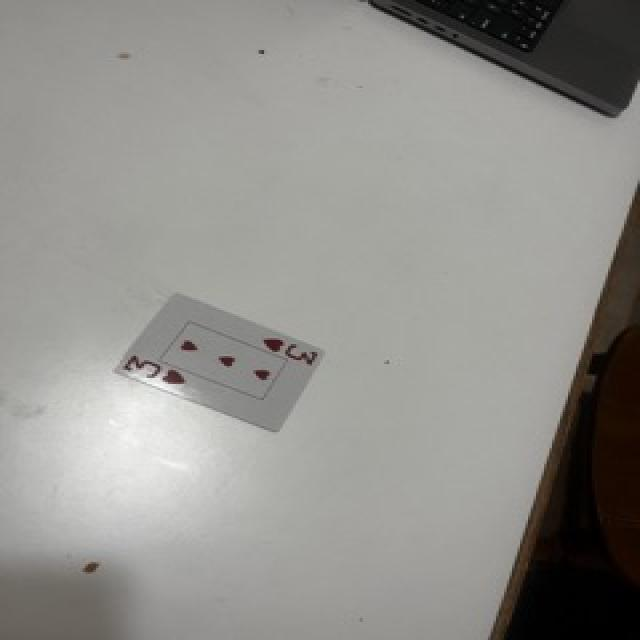3 of hearts: (115, 294, 323, 430)
